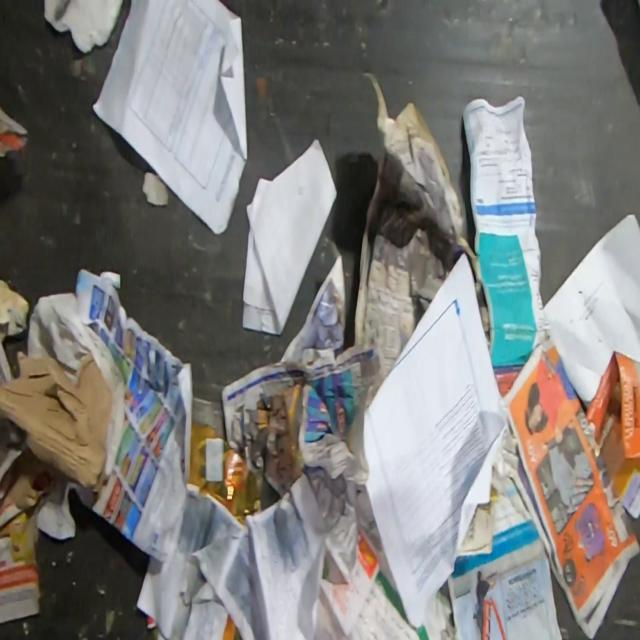cardboard: (0, 351, 112, 491)
soft_plastic: (189, 422, 261, 526), (221, 613, 243, 639), (148, 614, 158, 639)
